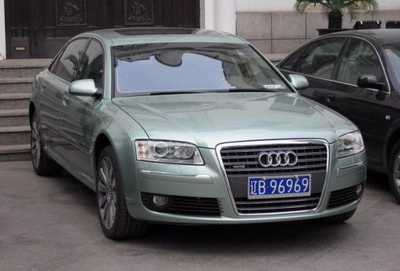plate_number: (248, 177, 311, 196)
